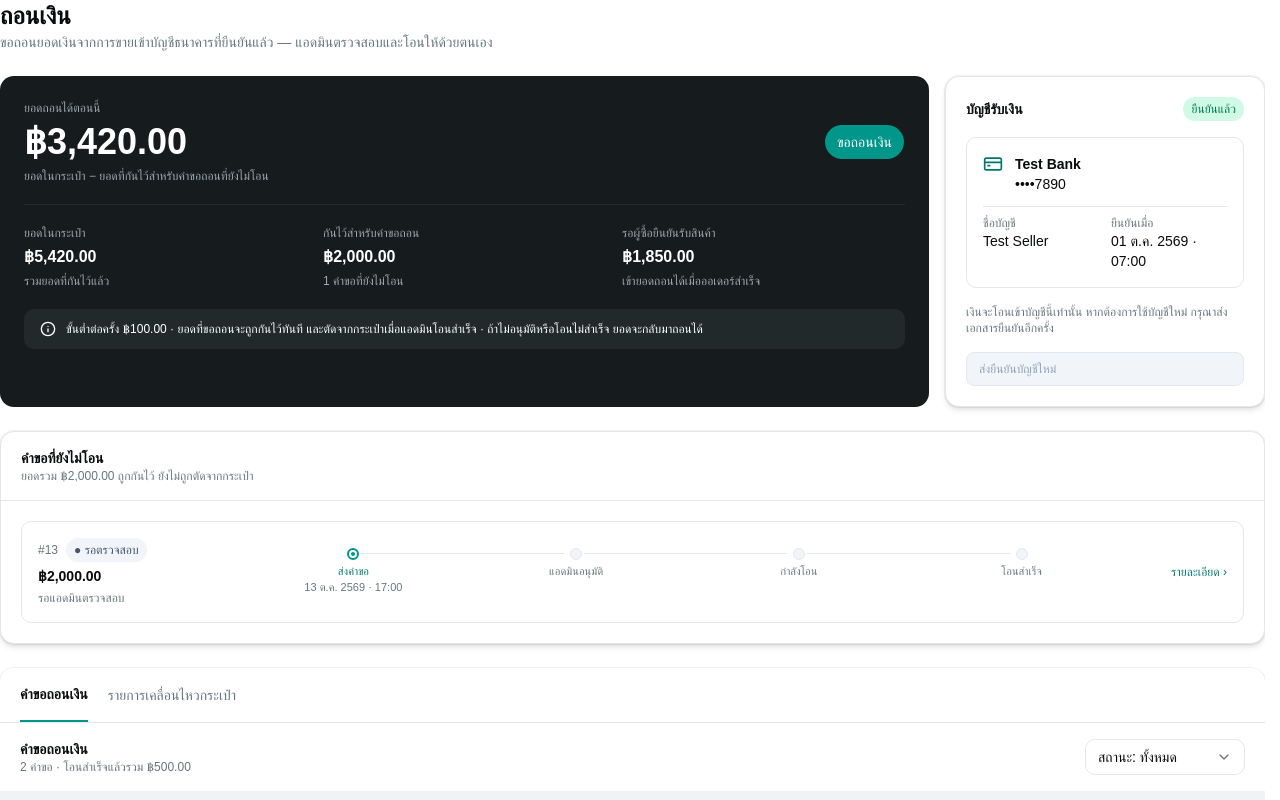
Scenario: seller payout page › keeps the dialog open and shows the latest balance after a 409
Expected: the text "฿3,420.00" is shown, [24, 121, 187, 162]
Click the button "ขอถอนเงิน" at (864, 142), box [824, 124, 905, 160]
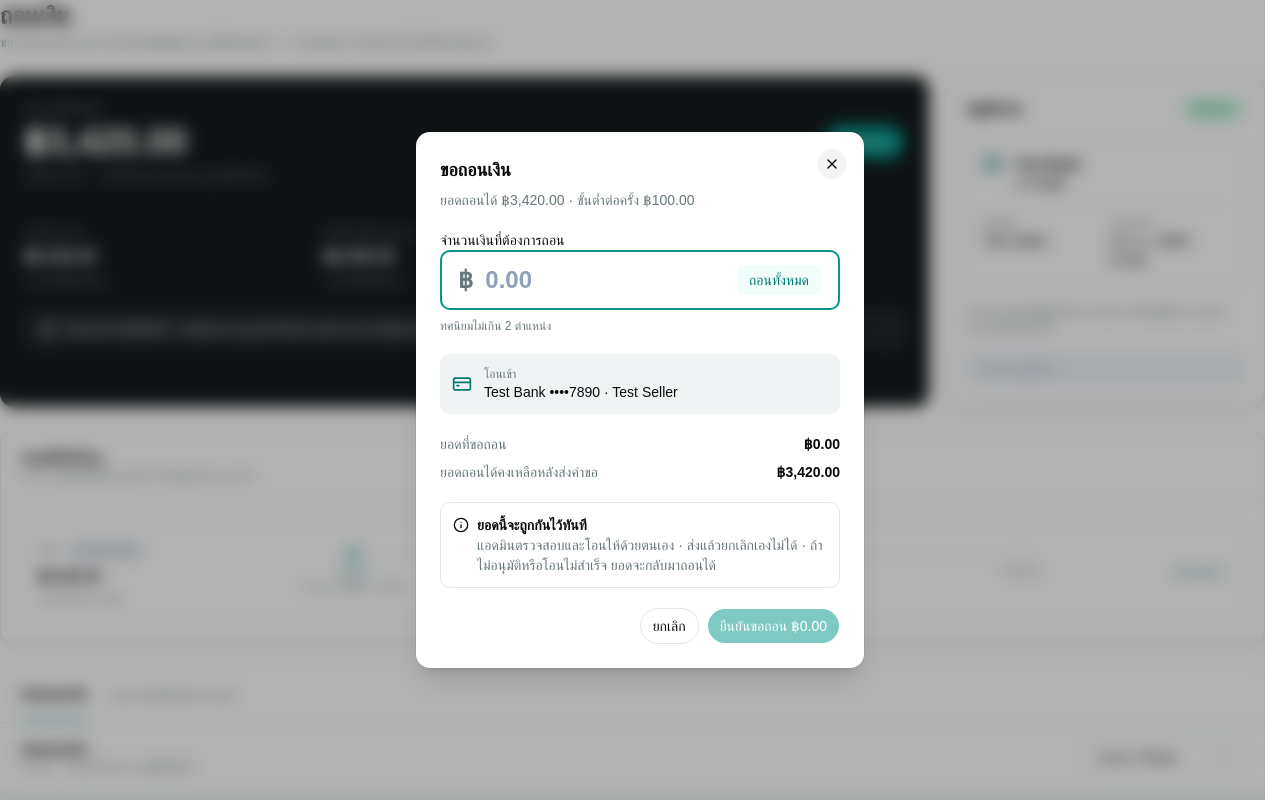
Type "300" into the field labelled "จำนวนเงินที่ต้องการถอน" at (605, 280), box [473, 252, 736, 308]
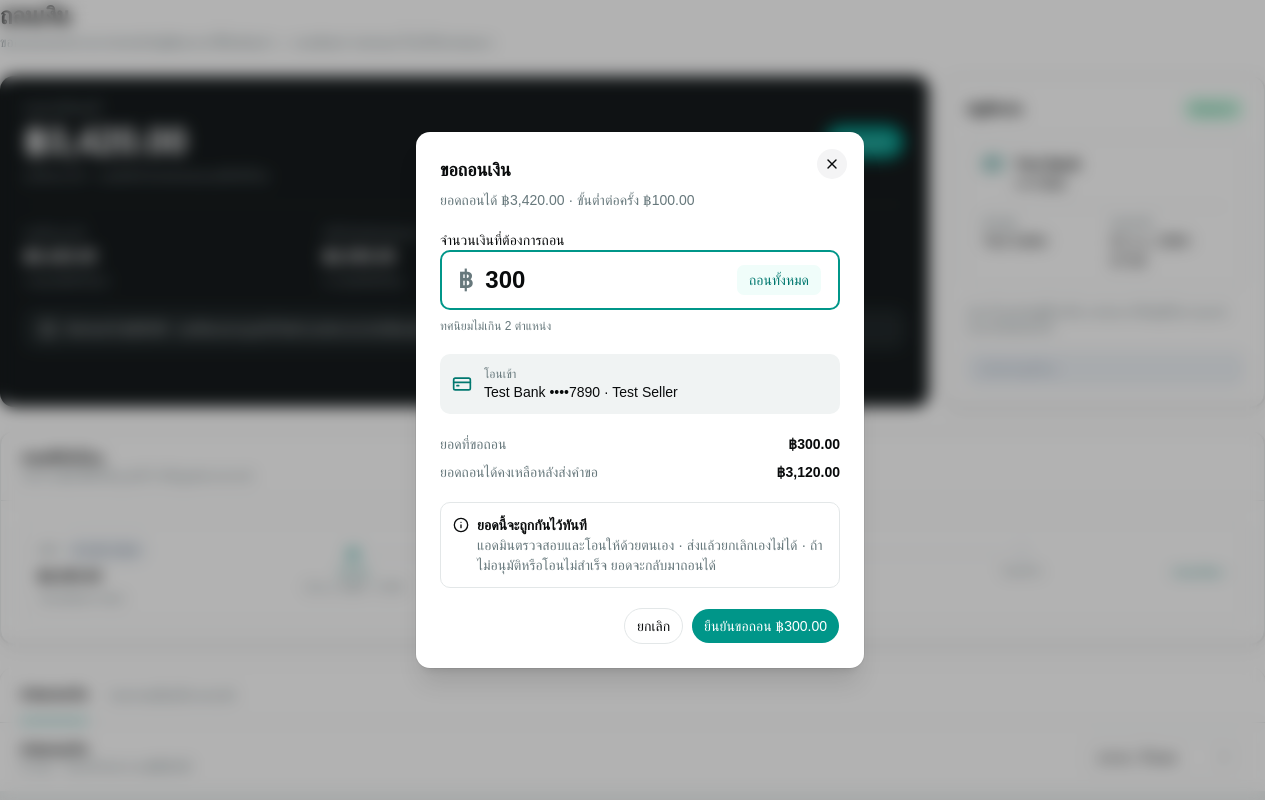
Click the button "ยืนยันขอถอน ฿300.00" at (766, 626), box [691, 608, 840, 644]
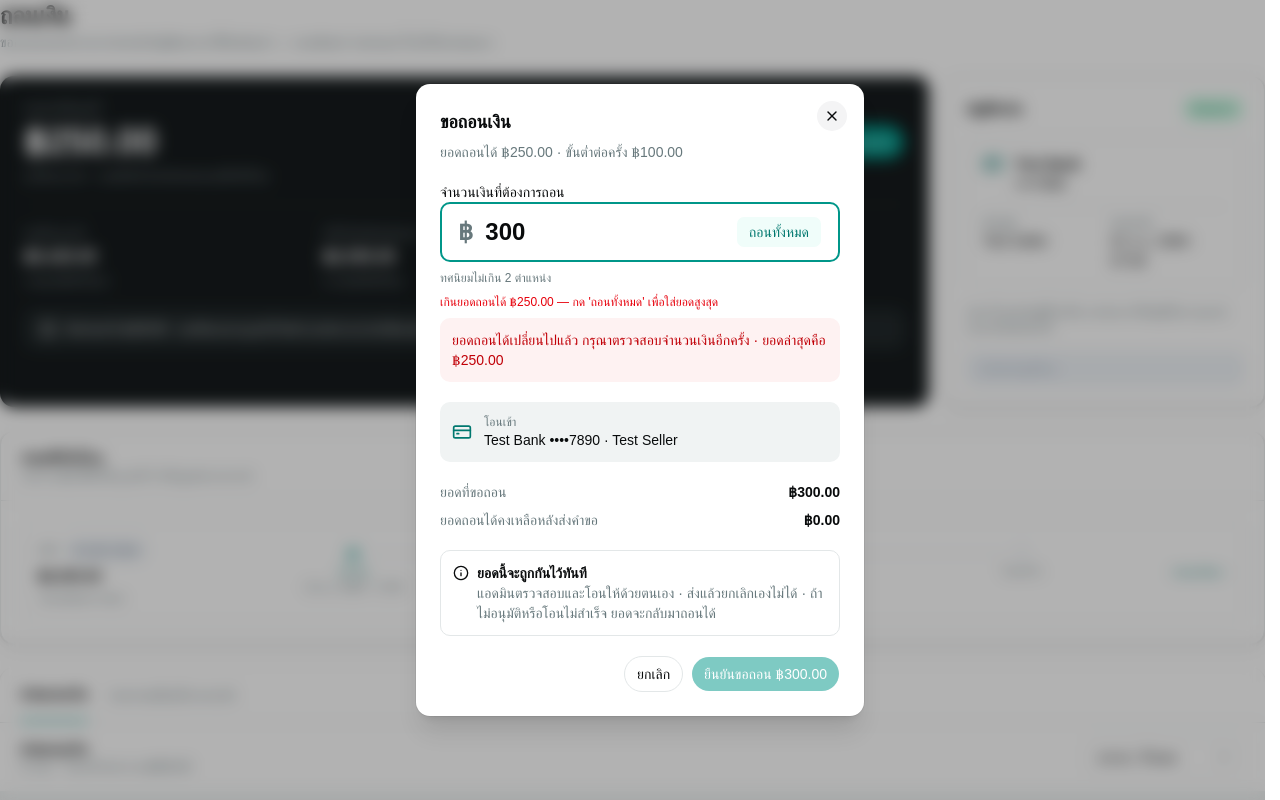
Now the text "ยอดถอนได้เปลี่ยนไปแล้ว กรุณาตรวจสอบจำนวนเงินอีกครั้ง · ยอดล่าสุดคือ ฿250.00" is shown, box [440, 318, 840, 382]
